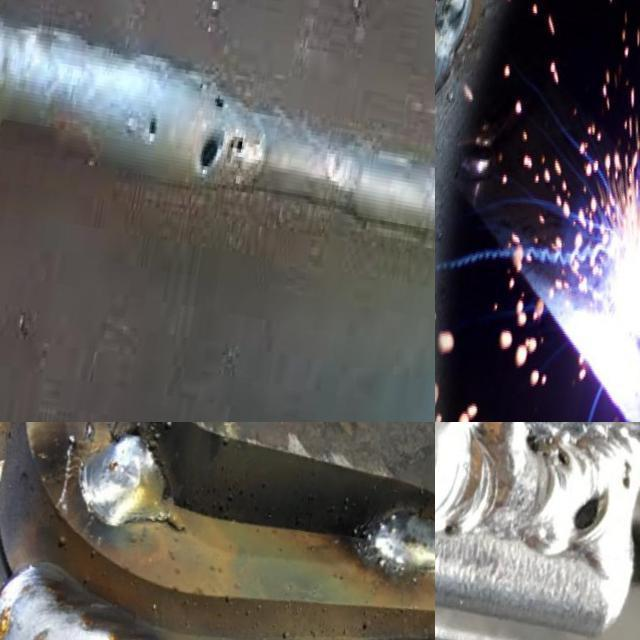defect: (567, 483, 612, 540), (522, 426, 574, 474), (195, 133, 246, 176), (435, 0, 467, 36), (208, 81, 230, 119), (142, 112, 163, 145), (440, 519, 455, 538)
